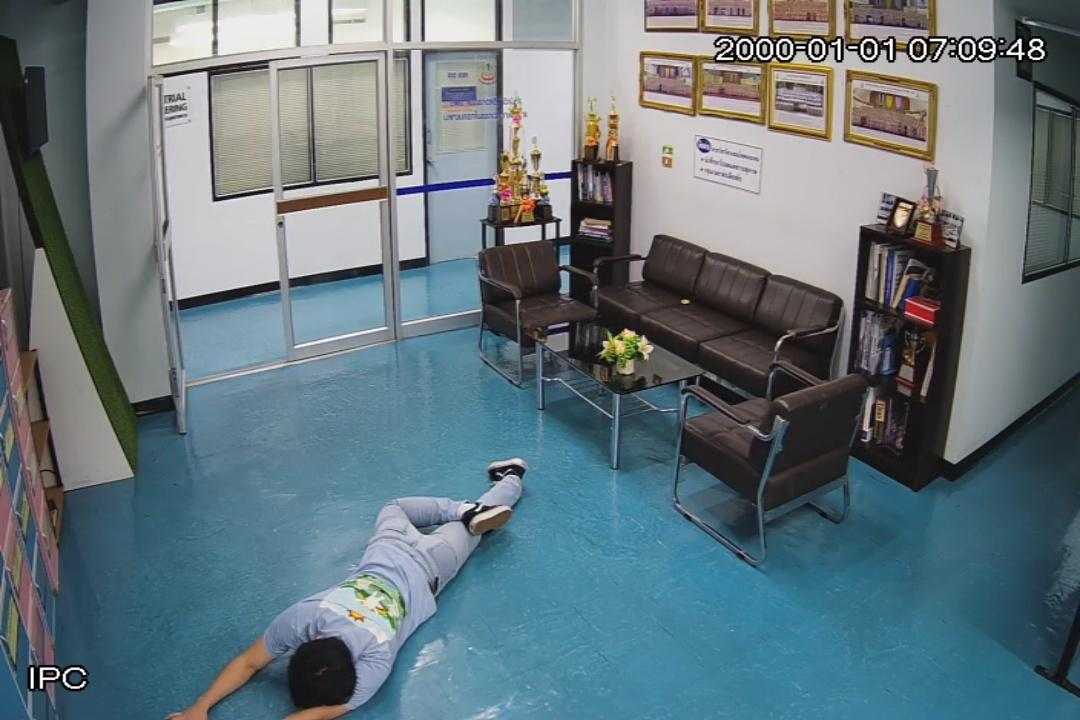fall: (161, 454, 536, 720)
